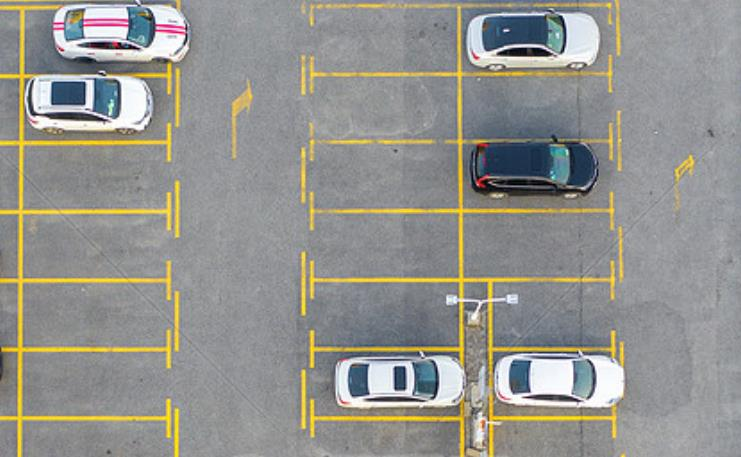car: (46, 1, 193, 70), (462, 7, 604, 74), (25, 69, 155, 139), (462, 136, 601, 201), (338, 346, 469, 413), (497, 350, 629, 411)
